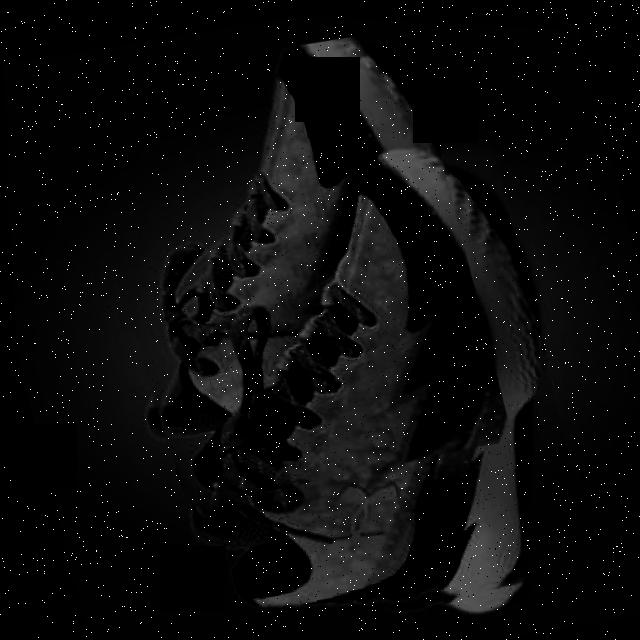shoe: (104, 123, 602, 640), (56, 8, 515, 523)
